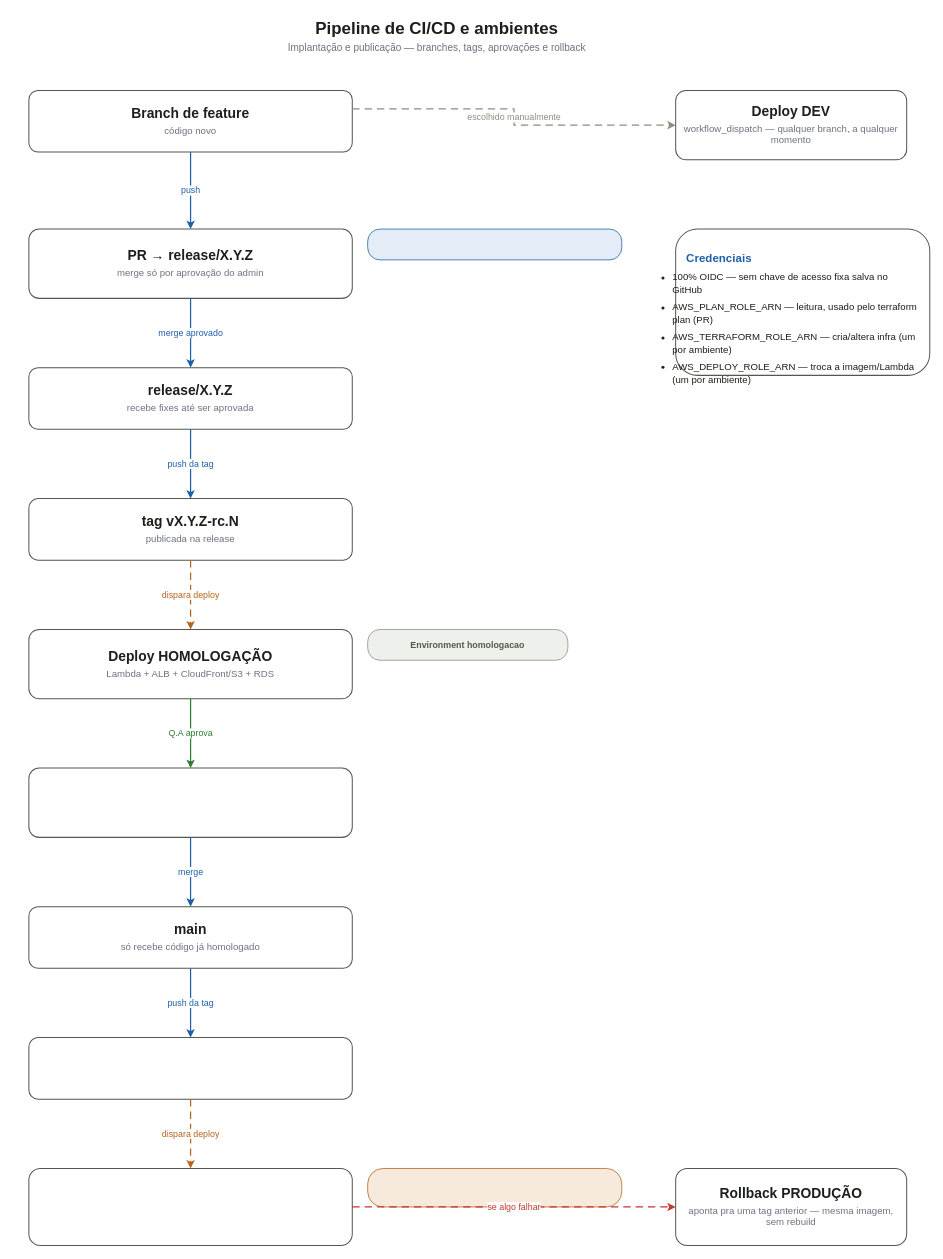
Image size: 943x1259. Some labels were removed from this diagram. The centre of each missing label's shape, as x and y in pixels:
CI obrigatório: ci-backend · ci-frontend · security · CodeQL: point (494, 244)
Deploy PRODUÇÃO promove a MESMA imagem/build já homologados — sem rebuild: point (190, 1207)
Environment producao — revisores obrigatórios, sem autoaprovação: point (494, 1187)
PR release/X.Y.Z → main Q.A aprovou a homologação: point (190, 802)
tag vX.Y.Z publicada na main: point (190, 1068)
